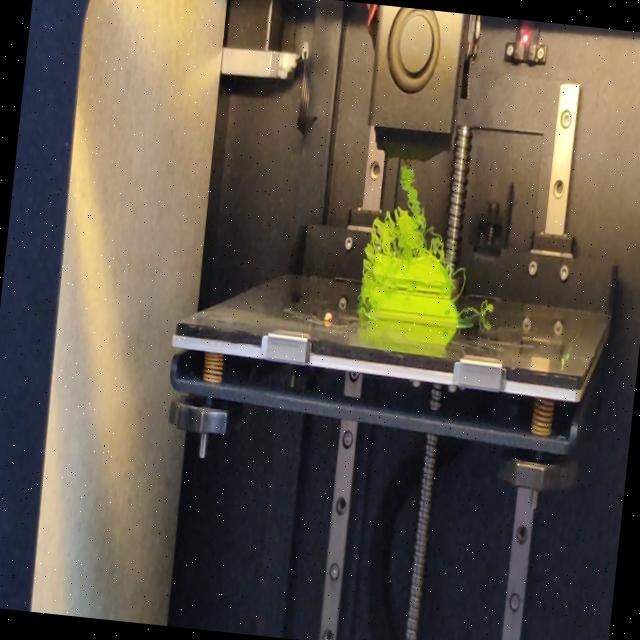spaghetti: (365, 162, 455, 260), (455, 298, 493, 322), (451, 264, 468, 305), (351, 298, 370, 320)
